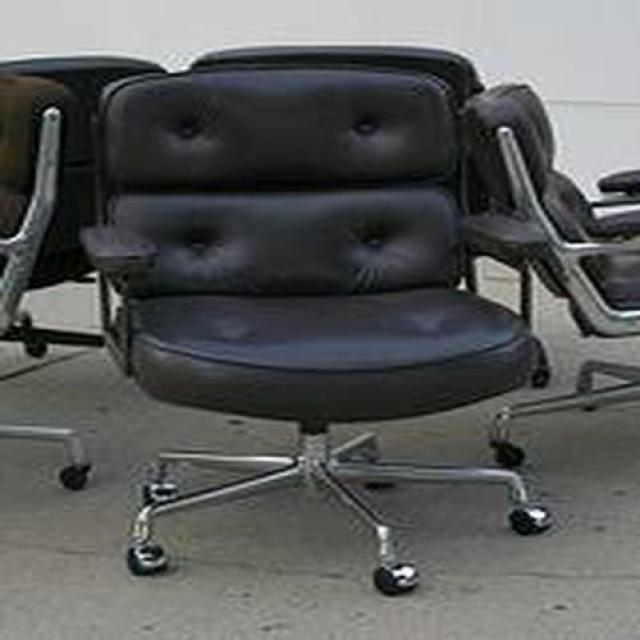swivelchair: (81, 46, 572, 599)
